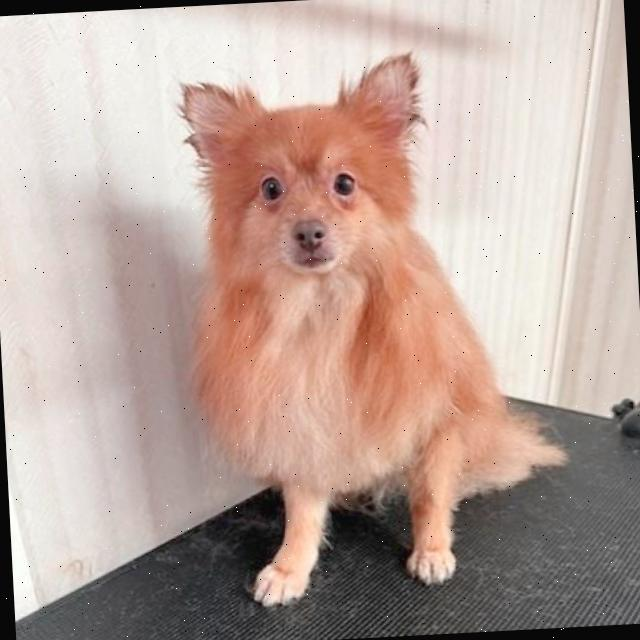pomeranian_dog: (168, 43, 440, 304)
